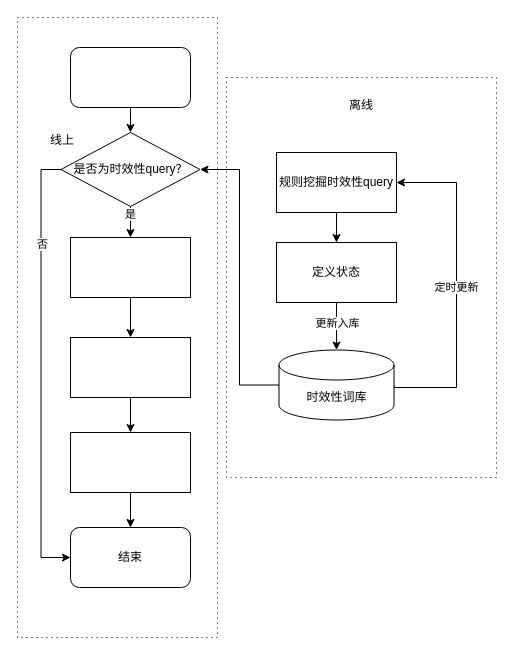
Some shapes in this 514 by 655 pixel diagram are drawn without their labels. Each missing label, with the centre of its shape:
"postrank调整权重" belongs at point 130,462.
"query" belongs at point 130,77.
"召回笔记" belongs at point 130,367.
"更新状态，确定参数" belongs at point 130,267.
